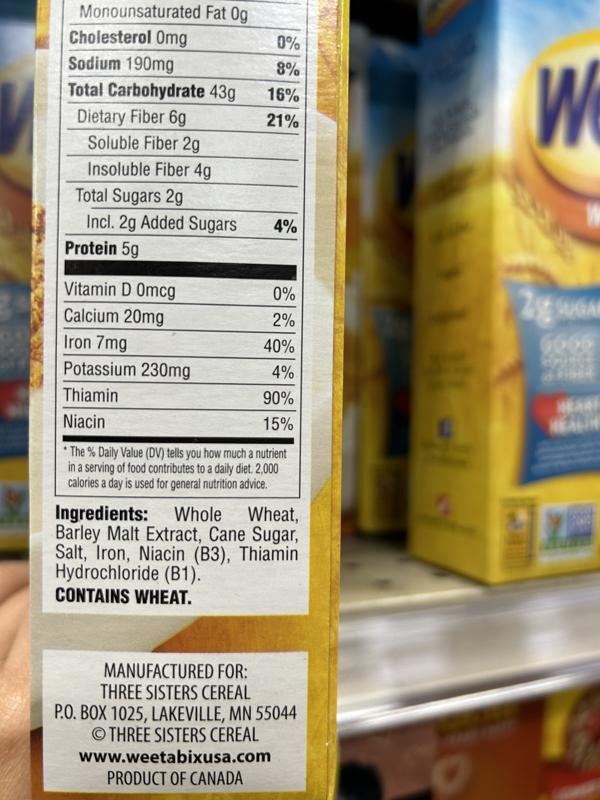ingredients: (49, 502, 304, 585)
